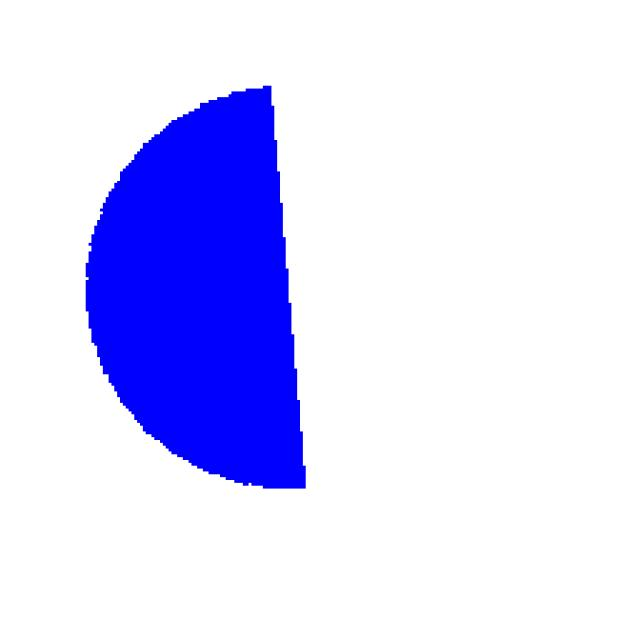Semicircle: (73, 66, 373, 553)
